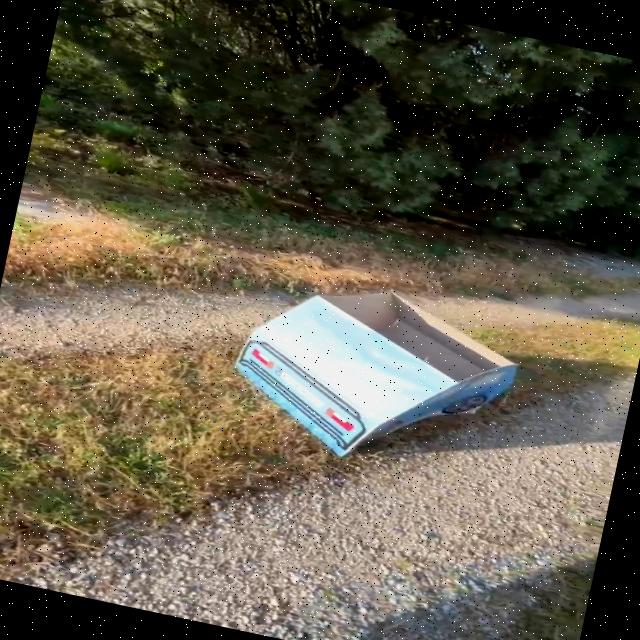blue_car: (186, 244, 572, 525)
